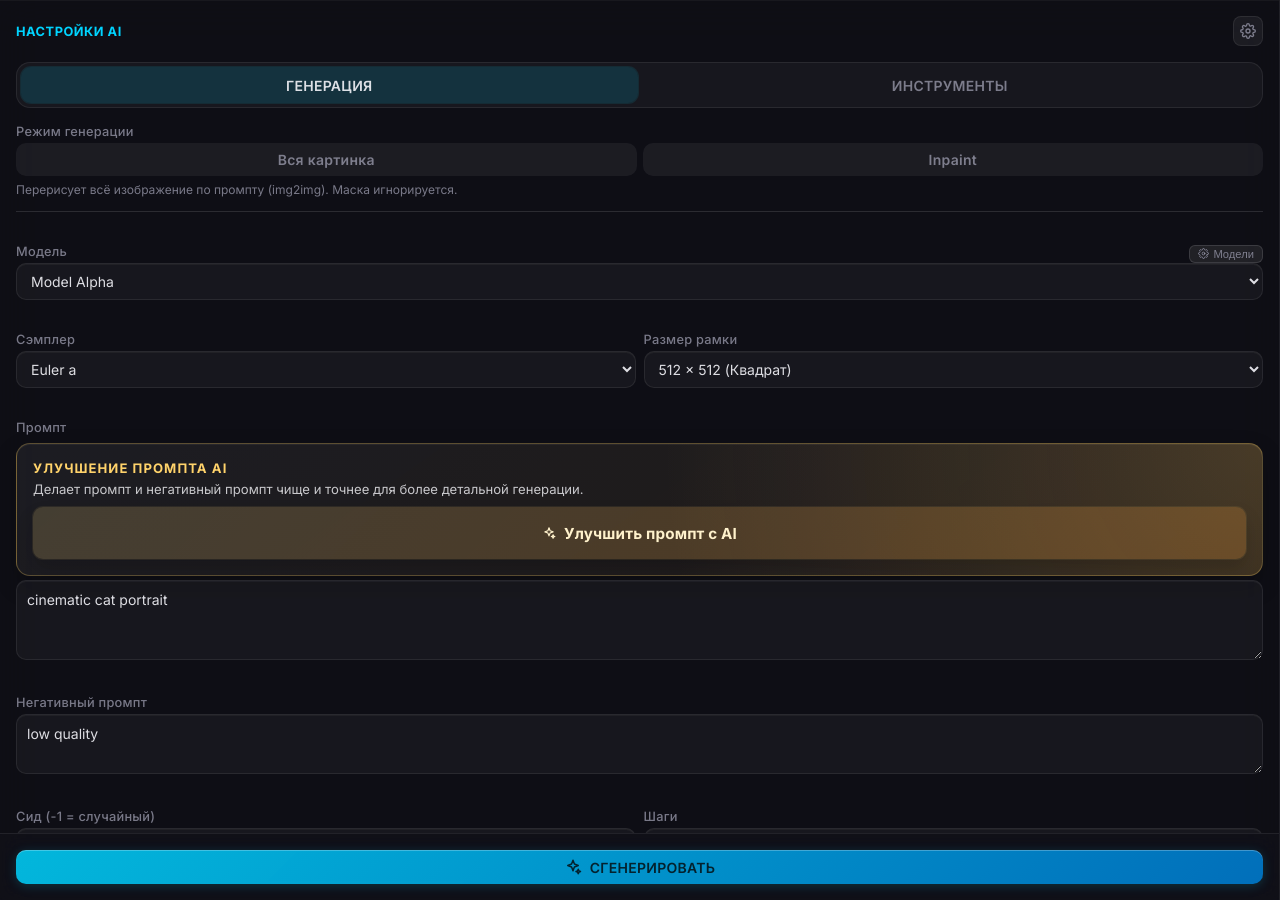
Test: Sidebar › успешно обновляет промпт и негативный промпт через AI-transform
The image size is (1280, 900).
Click the button "Улучшить промпт с AI" at (640,533), box left=33, top=507, right=1246, bottom=559
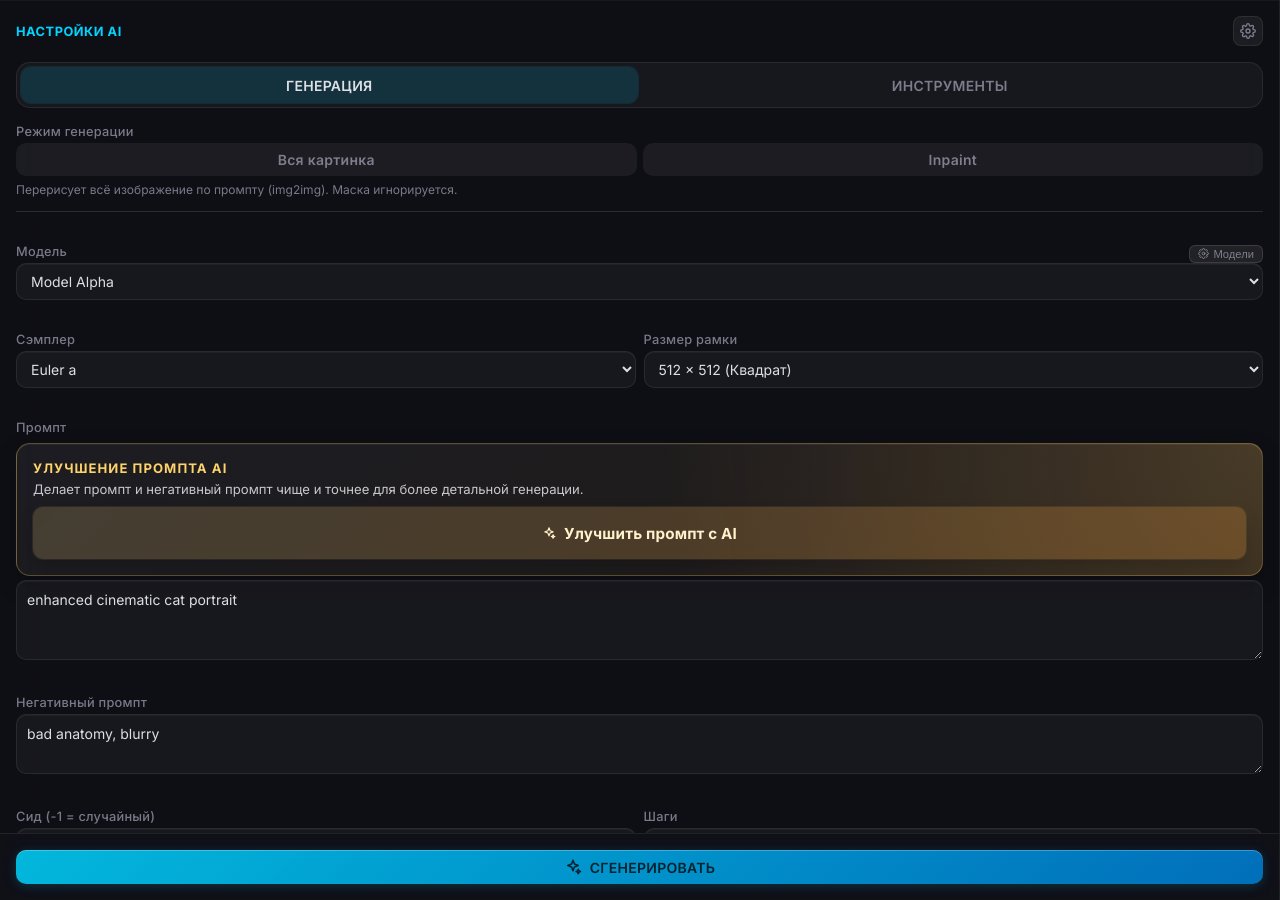
Check: the text box showing "enhanced cinematic cat portrait" is shown, box left=16, top=580, right=1263, bottom=660
Check: the text box showing "bad anatomy, blurry" is shown, box left=16, top=714, right=1263, bottom=774
